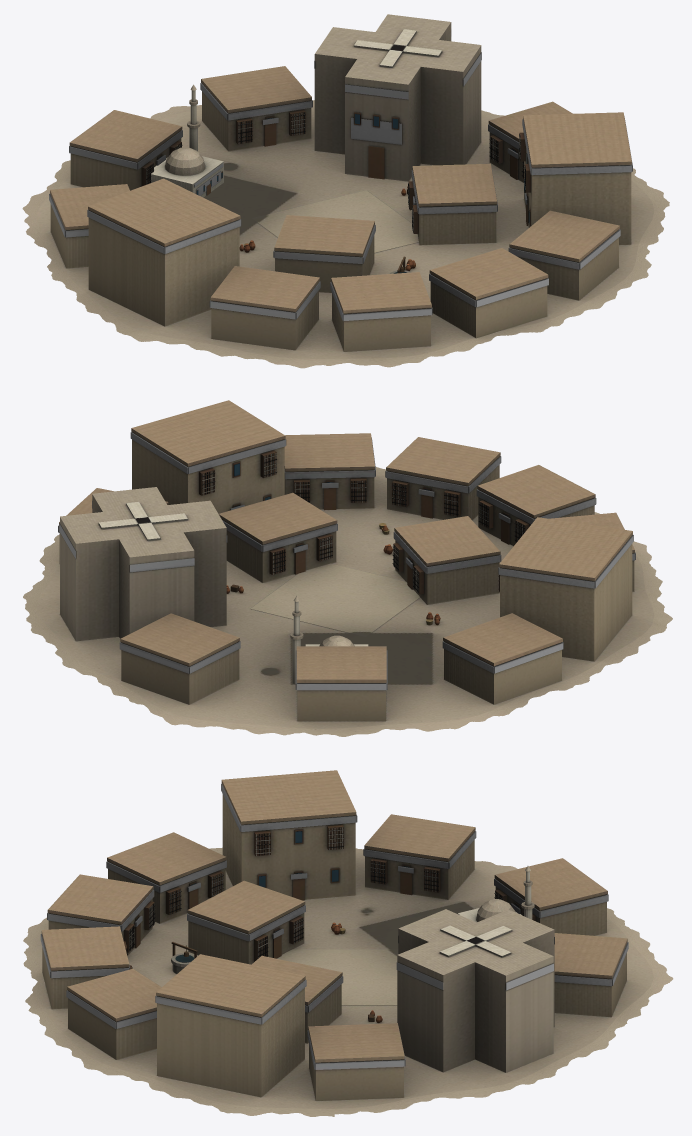
File: kingdoms-town-medium-a-nile-dcfead1f.glb
3 views of the same model, one above another, from view 1: azimuth 30°, elevation 25°; view 2: azimuth 150°, elevation 25°; view 3: azimuth 270°, elevation 25° (orthographic).
Visible parts, largest first — view 1: LOD0; view 2: LOD0; view 3: LOD0.
Boxes of the visible parts, left/top/right/bottom form: LOD0: left=22, top=14, right=669, bottom=368; LOD0: left=23, top=400, right=672, bottom=736; LOD0: left=23, top=770, right=673, bottom=1116.
Size of what is drawn, in the model's own units: 5.95 by 1.02 by 6.
3 materials, 3 textured.
